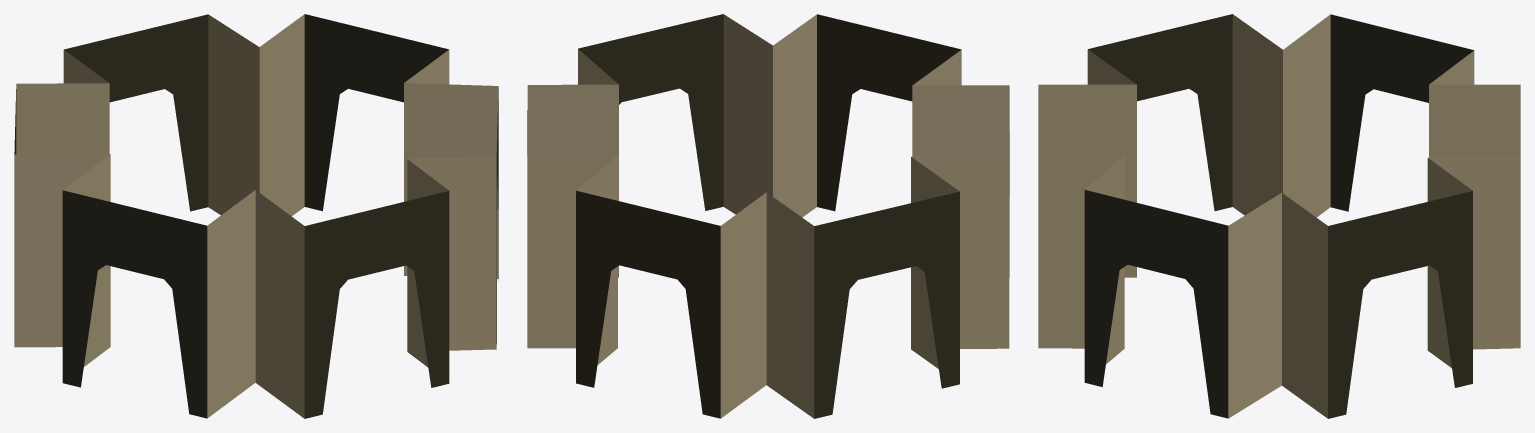
File: Road_HexStar_Bridge.fbx
The picture shows the model from 3 angles, left to right: view 1: azimuth 30°, elevation 25°; view 2: azimuth 150°, elevation 25°; view 3: azimuth 270°, elevation 25°; orthographic projection.
Visible parts, largest first — view 1: Road_HexStar_Bridge; view 2: Road_HexStar_Bridge; view 3: Road_HexStar_Bridge.
Part boxes in pixels (<box>): Road_HexStar_Bridge: <box>14,14,498,418</box>; Road_HexStar_Bridge: <box>527,14,1009,418</box>; Road_HexStar_Bridge: <box>1038,14,1520,418</box>.
Size of the model in its own units: 0.9003 by 0.866 by 0.3826.
